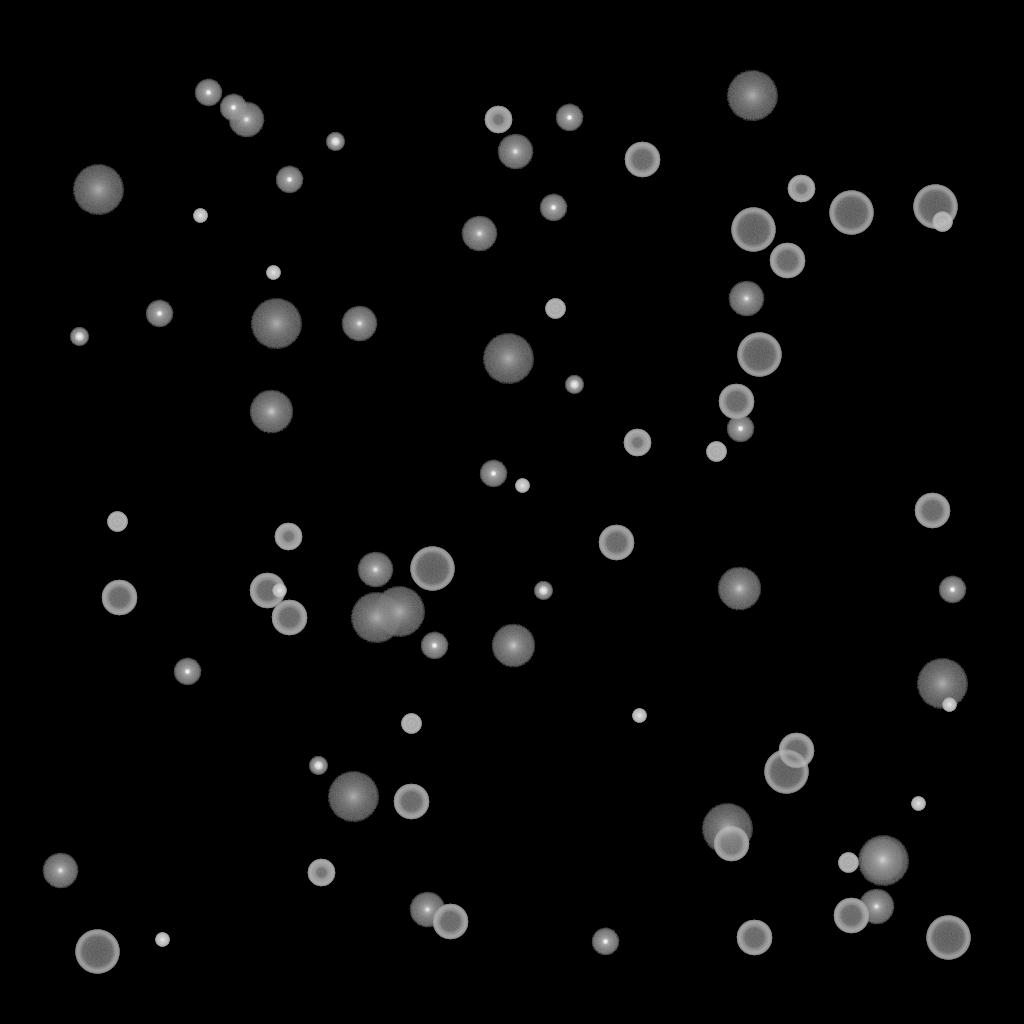depth:-10: (539, 194, 567, 222), (726, 415, 754, 443), (479, 460, 507, 488), (555, 104, 583, 132), (145, 300, 173, 328), (275, 166, 303, 194), (420, 632, 448, 660), (173, 658, 201, 686), (938, 576, 966, 604), (219, 94, 247, 122), (591, 928, 619, 956), (194, 79, 222, 107)
depth:-20: (534, 582, 552, 600), (309, 757, 327, 775), (565, 376, 583, 394), (70, 328, 88, 346), (326, 133, 344, 151)
depth:-30: (911, 797, 925, 811), (193, 209, 207, 223), (155, 933, 169, 947), (272, 584, 286, 598), (266, 266, 280, 280), (632, 709, 646, 723), (942, 698, 956, 712), (515, 479, 529, 493)
depth:-40: (706, 442, 726, 462), (932, 212, 952, 232), (401, 714, 421, 734), (545, 299, 565, 319), (838, 853, 858, 873), (107, 512, 127, 532)
depth:-50: (623, 429, 651, 457), (787, 175, 815, 203), (307, 859, 335, 887), (484, 106, 512, 134), (274, 523, 302, 551)
depth:-60: (769, 243, 805, 279), (101, 580, 137, 616), (914, 493, 950, 529), (249, 573, 285, 609), (598, 525, 634, 561), (271, 600, 307, 636), (718, 384, 754, 420), (833, 898, 869, 934), (736, 920, 772, 956), (432, 904, 468, 940), (393, 784, 429, 820), (713, 826, 749, 862), (624, 142, 660, 178), (778, 733, 814, 769)
depth:-70: (737, 333, 781, 377), (731, 208, 775, 252), (926, 916, 970, 960), (913, 185, 957, 229), (75, 930, 119, 974), (410, 547, 454, 591), (829, 191, 873, 235), (764, 750, 808, 794)
depth:0: (728, 281, 764, 317), (341, 306, 377, 342), (357, 552, 393, 588), (228, 102, 264, 138), (409, 892, 445, 928), (42, 853, 78, 889), (497, 134, 533, 170), (461, 216, 497, 252), (858, 889, 894, 925)
depth:10: (249, 390, 293, 434), (860, 838, 904, 882), (491, 624, 535, 668), (717, 567, 761, 611)
depth:20: (726, 71, 778, 121), (327, 772, 379, 822), (857, 836, 909, 886), (373, 587, 425, 637), (350, 593, 402, 643), (701, 804, 753, 854), (482, 334, 534, 384), (250, 299, 302, 349), (72, 165, 124, 215), (916, 659, 968, 709)
